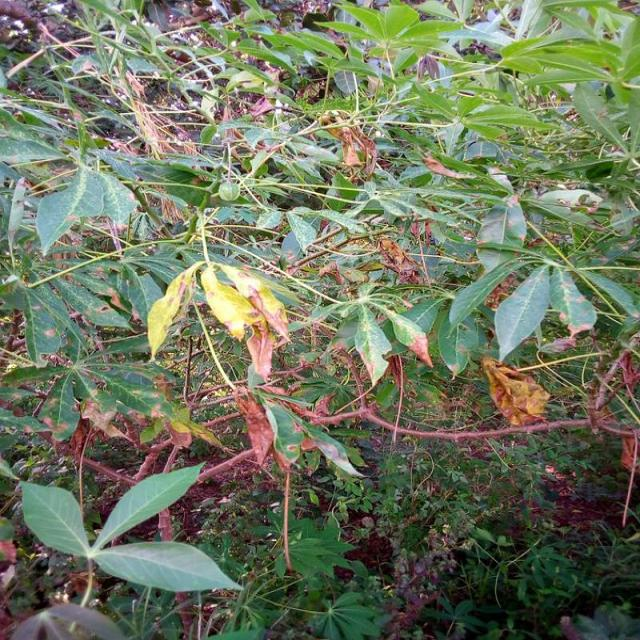cassava leaf: (19, 461, 244, 598), (91, 539, 244, 594), (493, 262, 550, 363)
